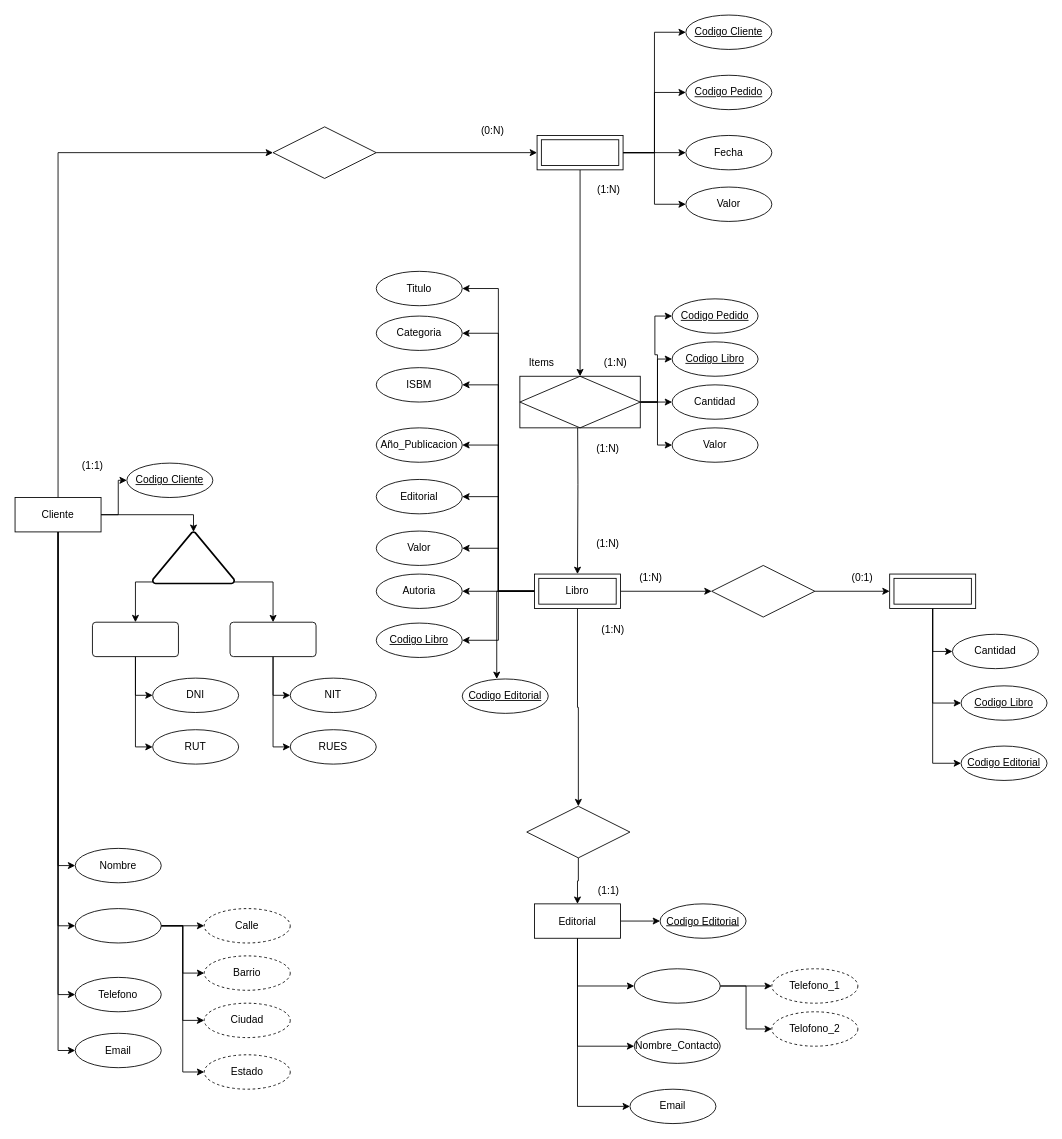
Some shapes in this 1062 by 1139 pixel diagram are drawn without their labels. The centre of each missing label's shape, as x and y in pixels:
Contiene: (579,401)
Dirección: (117,925)
Existe: (763,591)
ID: (193,557)
Inventario: (932,590)
Pedido: (579,152)
Pertenece: (578,831)
PJ: (272,639)
PN: (135,639)
Realiza: (324,152)
Telofono: (676,985)
